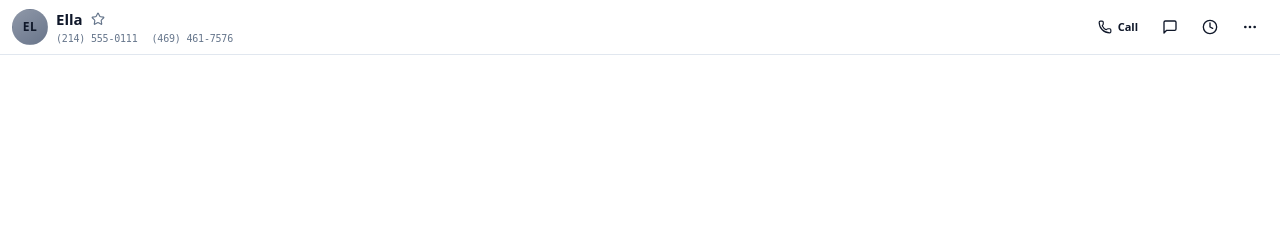
Test: ConversationHeader P26 snooze › opens the snooze menu and lists exactly the preset order
This screenshot has width=1280, height=250.
Click the button named "Snooze".
click(1210, 27)  # box [1192,9,1228,45]
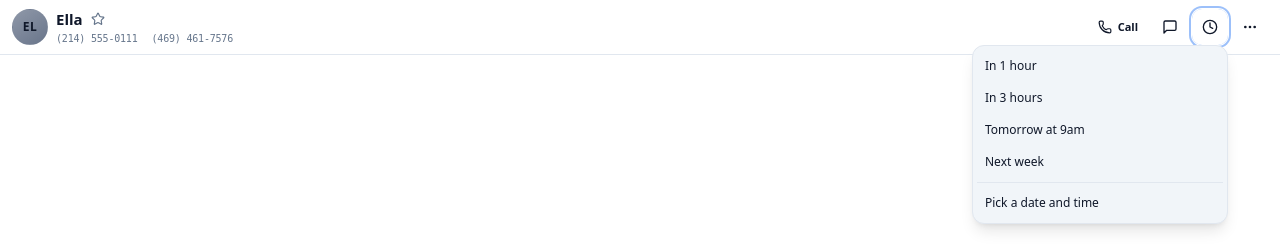
Expected: the menu items read "In 1 hour", "In 3 hours", "Tomorrow at 9am", "Next week", "Pick a date and time", in this order, [977,50,1223,82]; [977,82,1223,114]; [977,114,1223,146]; [977,146,1223,178]; [977,187,1223,219]
